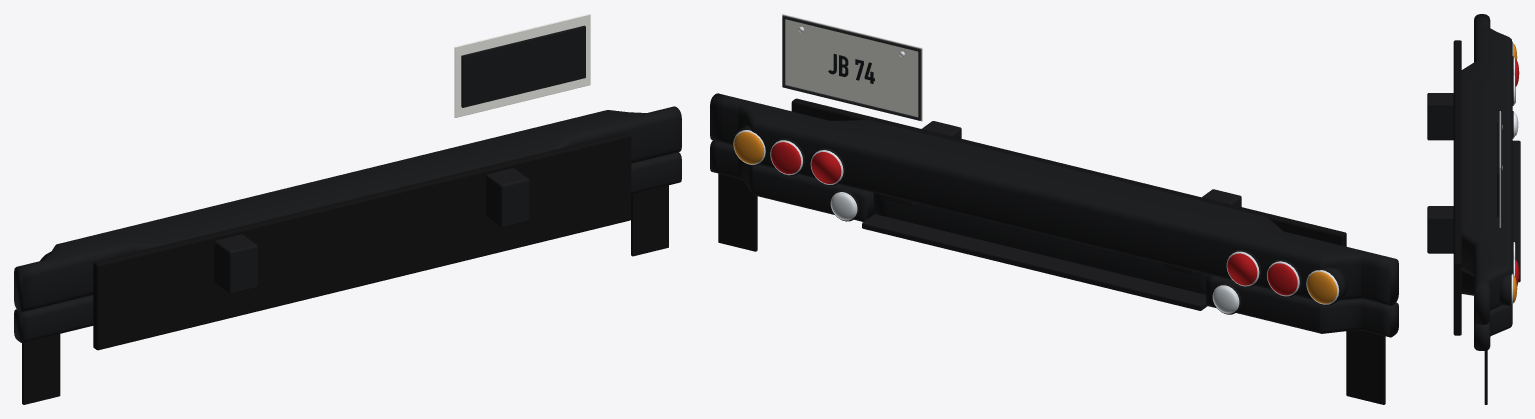
Rendered from rearBumper_apio_tactical_rear.glb.
3 views of the same model, side by side, from view 1: azimuth 30°, elevation 25°; view 2: azimuth 150°, elevation 25°; view 3: azimuth 270°, elevation 25° (orthographic). The views are drawn at different scales.
Visible parts, largest first — view 1: valance.032, upper.004, plateBracket.004, plate.039, lower-1, flap-1, flap1, mount-1.032, mount1.032, lower1; view 2: upper.004, plate.039, lowerMid, stepLip, lower-1, lower1, valance.032, flap-1, flap1, lampLens-12, lampLens12, lampDome-10 (+3 smaller); view 3: upper.004, valance.032, lower1, mount-1.032, mount1.032, stepLip, lampCan10, plateBracket.004, plate.039, flap1, plateRim37_3, plateRim37_0.
Boxes of the visible parts, x1=… form: valance.032: x1=93, y1=132, x2=631, y2=350; upper.004: x1=14, y1=106, x2=681, y2=312; plateBracket.004: x1=461, y1=25, x2=585, y2=107; plate.039: x1=454, y1=14, x2=590, y2=117; lower-1: x1=14, y1=295, x2=93, y2=342; flap-1: x1=22, y1=334, x2=60, y2=404; flap1: x1=631, y1=185, x2=668, y2=256; mount-1.032: x1=214, y1=234, x2=257, y2=294; mount1.032: x1=486, y1=168, x2=529, y2=227; lower1: x1=631, y1=152, x2=681, y2=194; upper.004: x1=710, y1=93, x2=1398, y2=305; plate.039: x1=782, y1=14, x2=922, y2=121; lowerMid: x1=873, y1=193, x2=1208, y2=294; stepLip: x1=862, y1=214, x2=1207, y2=310; lower-1: x1=1206, y1=274, x2=1398, y2=337; lower1: x1=710, y1=140, x2=873, y2=221; valance.032: x1=791, y1=98, x2=1346, y2=246; flap-1: x1=1346, y1=330, x2=1385, y2=404; flap1: x1=718, y1=173, x2=757, y2=251; lampLens-12: x1=1227, y1=253, x2=1257, y2=285; lampLens12: x1=811, y1=152, x2=841, y2=183; lampDome-10: x1=1307, y1=271, x2=1336, y2=303; upper.004: x1=1461, y1=14, x2=1512, y2=324; valance.032: x1=1453, y1=40, x2=1461, y2=335; lower1: x1=1461, y1=269, x2=1512, y2=350; mount-1.032: x1=1427, y1=93, x2=1453, y2=140; mount1.032: x1=1427, y1=206, x2=1453, y2=253; stepLip: x1=1512, y1=140, x2=1520, y2=282; lampCan10: x1=1499, y1=273, x2=1511, y2=305; plateBracket.004: x1=1497, y1=122, x2=1499, y2=216; plate.039: x1=1499, y1=111, x2=1500, y2=227; flap1: x1=1484, y1=350, x2=1487, y2=404; plateRim37_3: x1=1500, y1=168, x2=1501, y2=226; plateRim37_0: x1=1500, y1=112, x2=1501, y2=167.
Size of the model in its own units: 1.6 by 0.5675 by 0.23.
